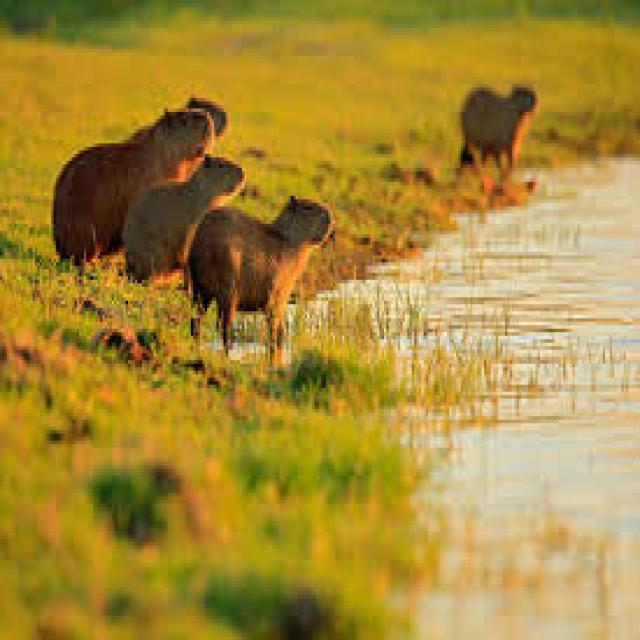capy: (46, 105, 210, 265), (190, 198, 334, 348), (122, 154, 244, 268), (460, 80, 539, 177)
